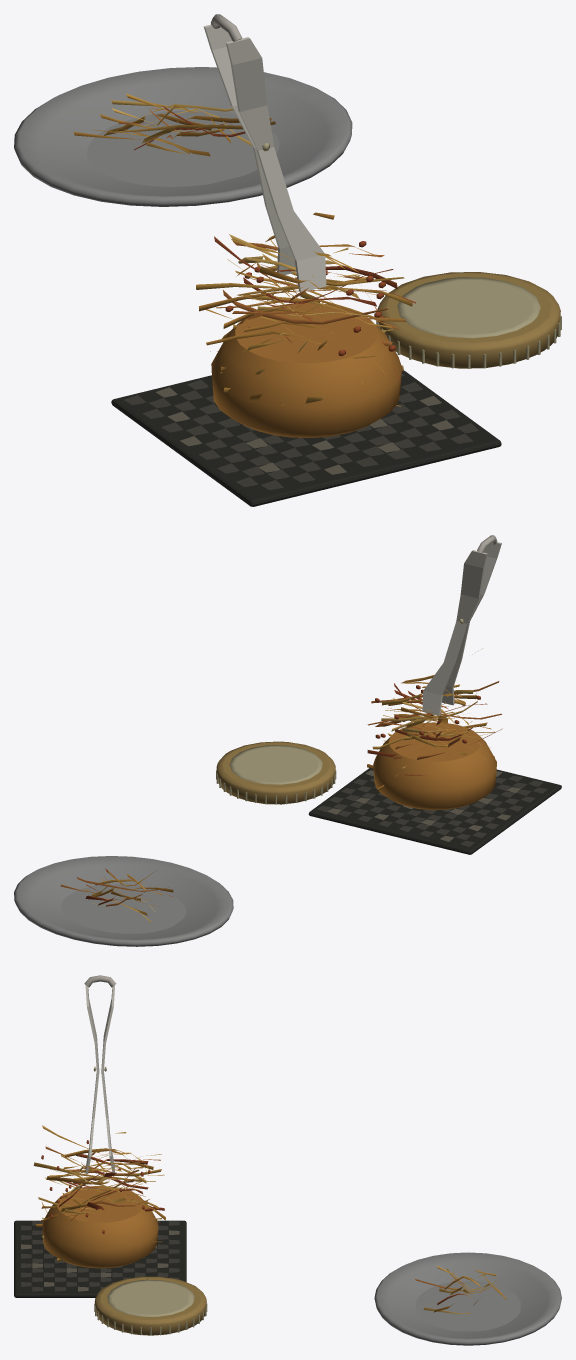
File: pickles.glb
3 renders of one model, top to bottom at view 1: azimuth 30°, elevation 25°; view 2: azimuth 150°, elevation 25°; view 3: azimuth 270°, elevation 25°, orthographic. The views are drawn at different scales.
Visible parts, largest first — view 1: FP218_pickles; view 2: FP218_pickles; view 3: FP218_pickles.
Part boxes in pixels (x1,y1,x2,y2): FP218_pickles: [14, 14, 561, 506]; FP218_pickles: [14, 535, 561, 946]; FP218_pickles: [14, 975, 561, 1345].
Size of the model in its own units: 0.286 by 0.2607 by 0.4886.
